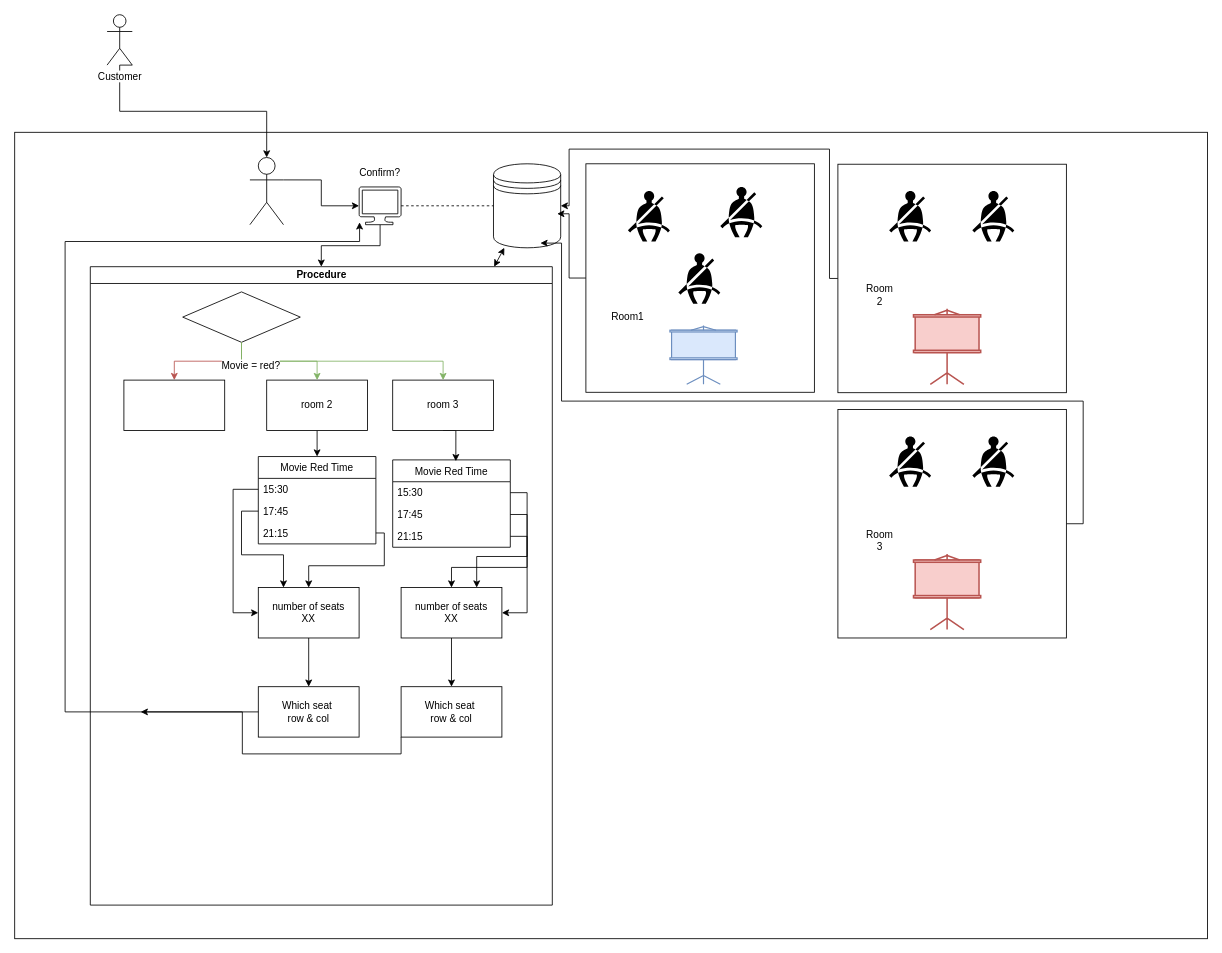
The diagram is 1222 pixels wide and 953 high, and some of its shapes have lost their labels. Each missing label, with the centre of its shape:
"Cashier" goes at pixel 266 191.
"Movie?" goes at pixel 241 316.
"room 1" goes at pixel 174 404.
